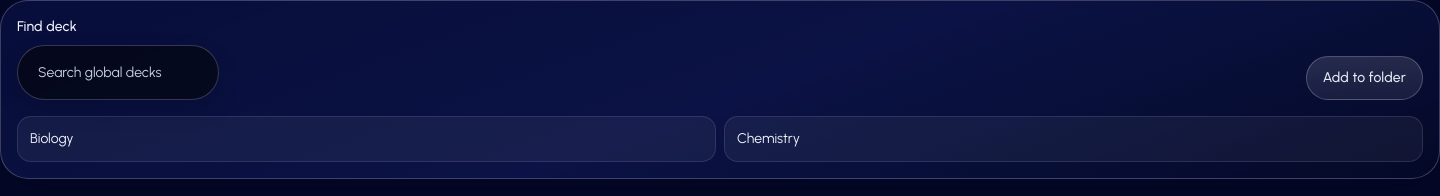
Test: FolderAssetPicker › attaches selected assets while detaching deselected assets from the pending batch
Check: the button "Add to folder" is disabled, box left=1306, top=56, right=1423, bottom=100
Click the button "Biology": (52, 138) left=17, top=116, right=716, bottom=162
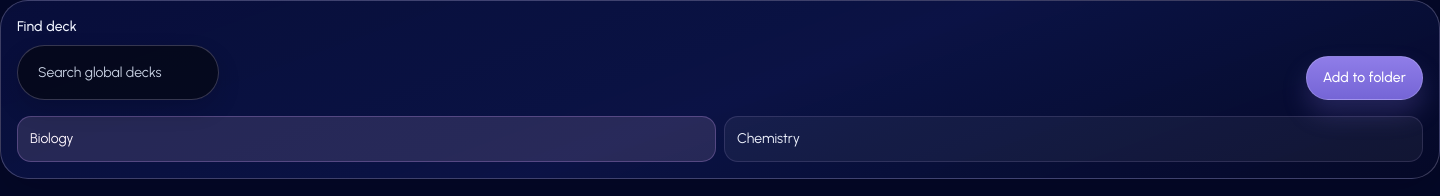
Click the button "Chemistry": (768, 138) left=724, top=116, right=1423, bottom=162
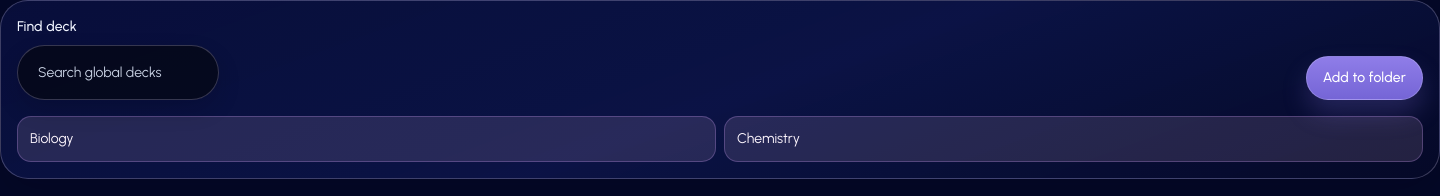
Click the button "Biology": (52, 138) left=17, top=116, right=716, bottom=162
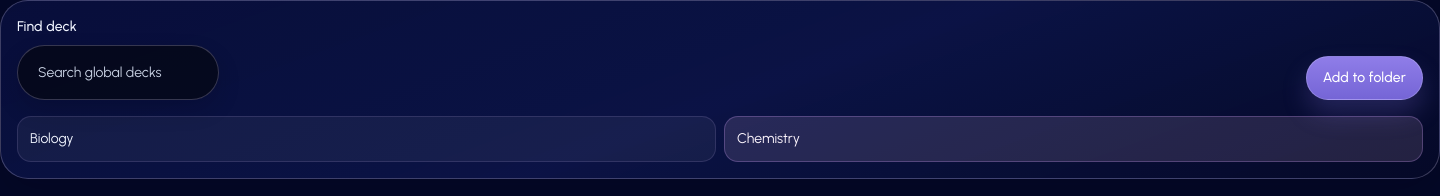
Click the button "Add to folder": (1364, 78) left=1306, top=56, right=1423, bottom=100
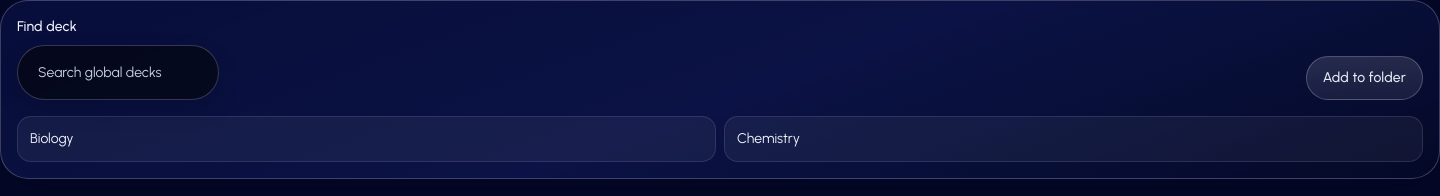
Check: the button "Add to folder" is disabled, box left=1306, top=56, right=1423, bottom=100
